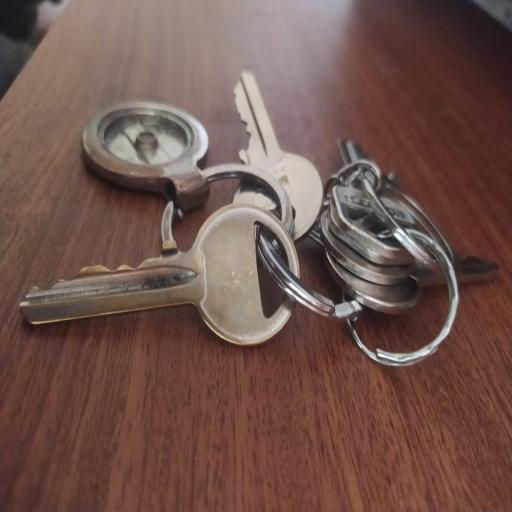Llaves: (23, 61, 503, 393)
